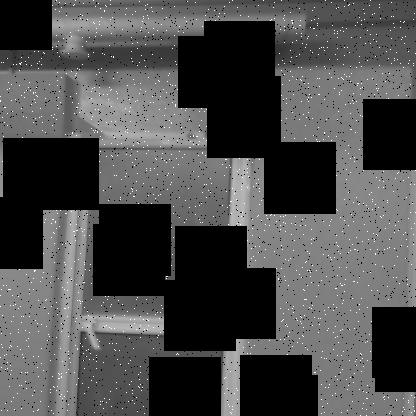Porte: (54, 130, 253, 415)
